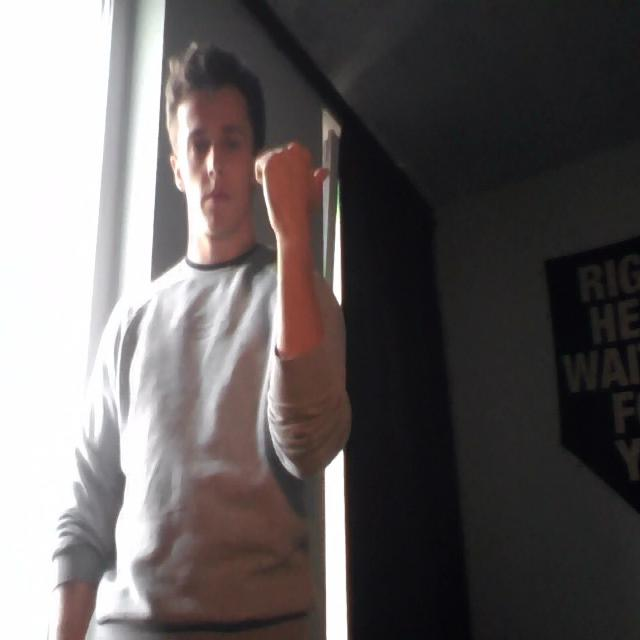right: (249, 120, 351, 250)
